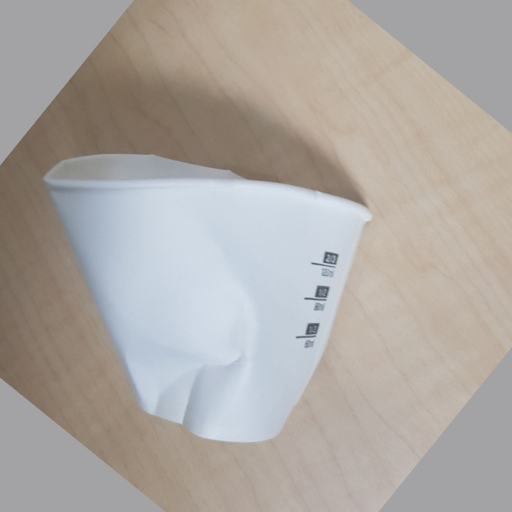Paper_1: (36, 148, 370, 448)
